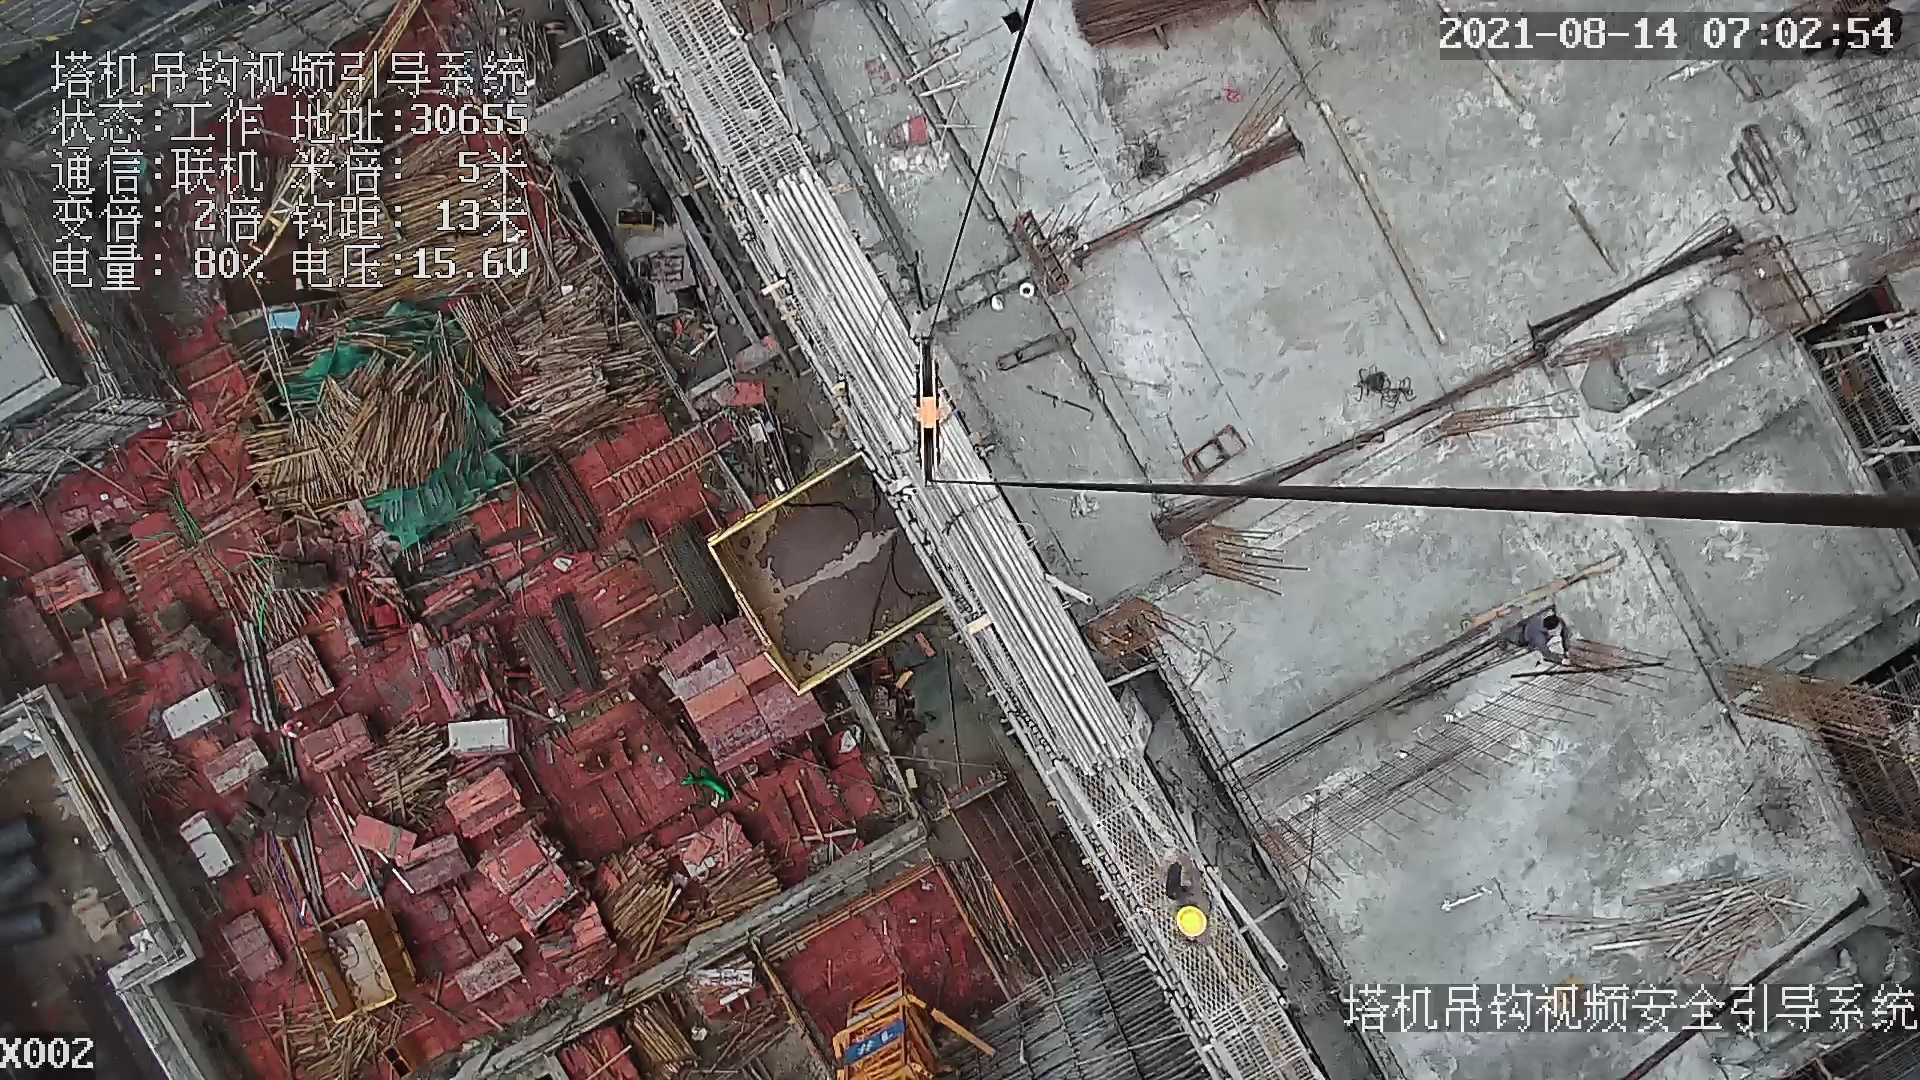helmet: (1175, 903, 1210, 938)
hook: (903, 337, 953, 497)
person: (1163, 849, 1218, 951), (1504, 613, 1576, 659)
slogan: (838, 1016, 906, 1063)
